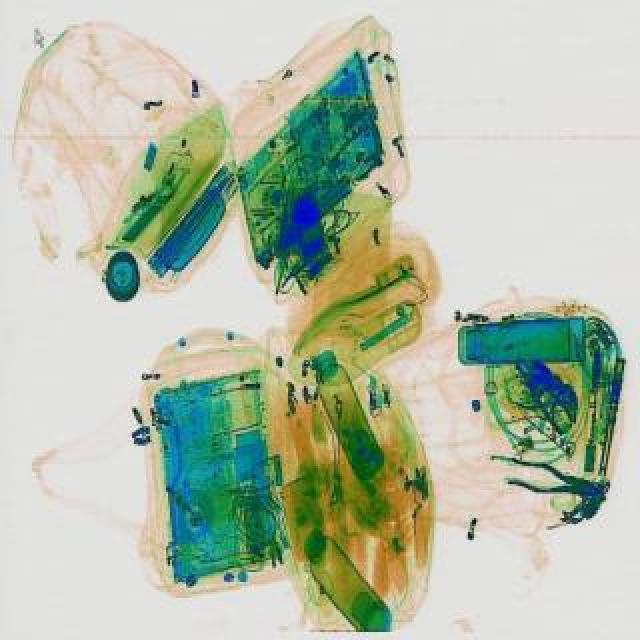wrench: (504, 348, 584, 436), (502, 454, 606, 504)
